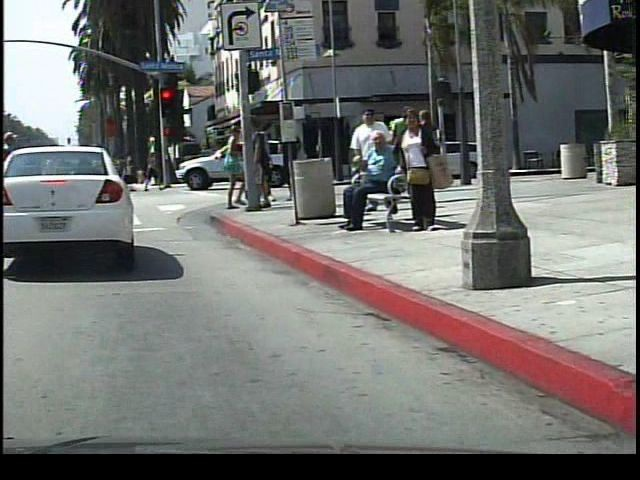person: (335, 133, 404, 240), (387, 109, 439, 234), (214, 124, 245, 211), (137, 149, 163, 197)
